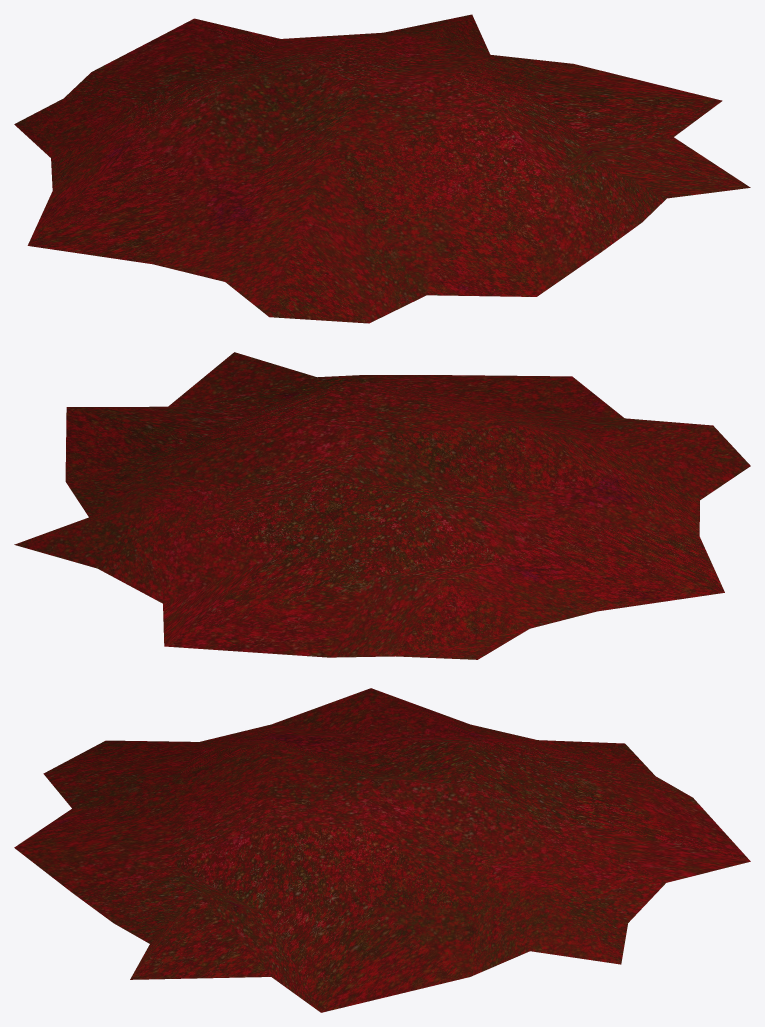
Rendered from blood_spot.fbx.
The picture shows the model from 3 angles, top to bottom: view 1: azimuth 30°, elevation 25°; view 2: azimuth 150°, elevation 25°; view 3: azimuth 270°, elevation 25°; orthographic projection. The views are drawn at different scales.
Parts seen in each view (by area): view 1: Plane001; view 2: Plane001; view 3: Plane001.
Boxes of the visible parts, left/top/right/bottom form: Plane001: left=14, top=14, right=750, bottom=323; Plane001: left=14, top=352, right=750, bottom=659; Plane001: left=14, top=688, right=750, bottom=1012.
Bounding box in the file's own units: 1.29 × 0.1344 × 1.23.
1 material, 1 textured.
